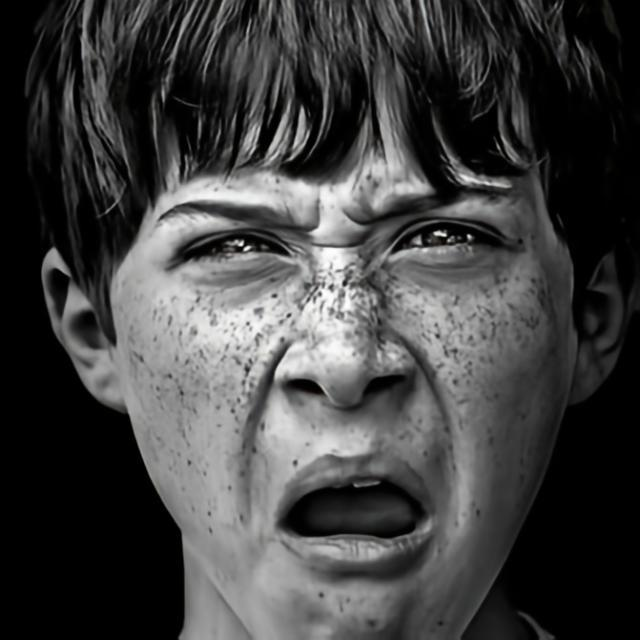disgust: (107, 0, 578, 640)
